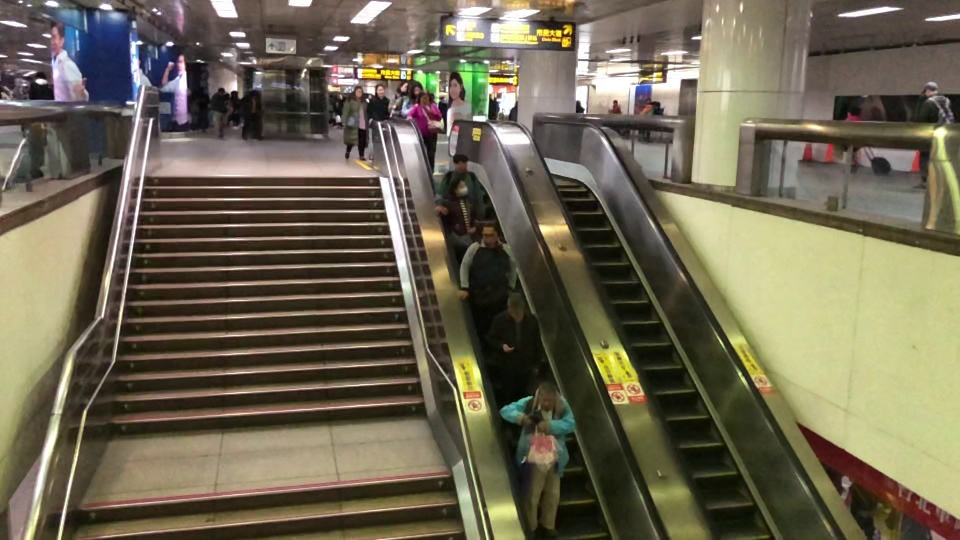person_head: (506, 291, 527, 323), (537, 380, 557, 411), (480, 218, 500, 246), (451, 150, 468, 174), (449, 176, 468, 195), (922, 80, 938, 98), (410, 79, 424, 98), (373, 81, 386, 97), (352, 84, 365, 99), (397, 79, 409, 95), (418, 90, 430, 105), (846, 106, 861, 116), (33, 70, 47, 80), (248, 87, 259, 99), (216, 86, 224, 94), (613, 99, 618, 106)
person_vbox: (499, 378, 576, 539), (486, 291, 541, 440), (454, 218, 517, 340), (910, 79, 954, 192), (434, 178, 483, 259), (406, 90, 442, 181), (432, 159, 484, 218), (341, 85, 371, 161), (839, 104, 864, 174), (366, 84, 391, 127), (242, 89, 262, 142), (209, 86, 228, 139), (27, 71, 54, 100), (607, 97, 622, 114)
